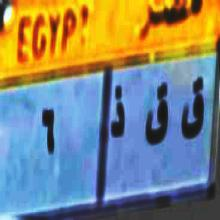6: (39, 104, 63, 158)
qaaf: (144, 80, 170, 153), (182, 74, 206, 144)
zaal: (110, 84, 128, 144)
